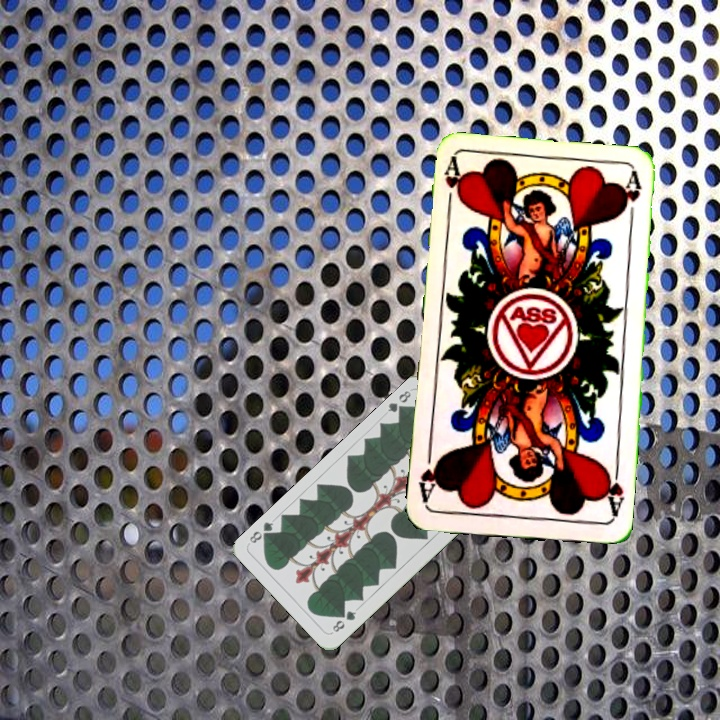G8: (383, 386, 414, 417), (328, 607, 359, 635)
HA: (599, 461, 626, 520), (439, 156, 465, 216)
